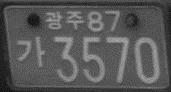0: (133, 35, 160, 84)
3: (53, 35, 78, 83)
5: (81, 35, 105, 83)
7: (103, 35, 130, 84), (104, 9, 122, 32)
8: (87, 9, 104, 33)
가: (14, 35, 47, 68)
광주_O: (44, 9, 84, 30)
